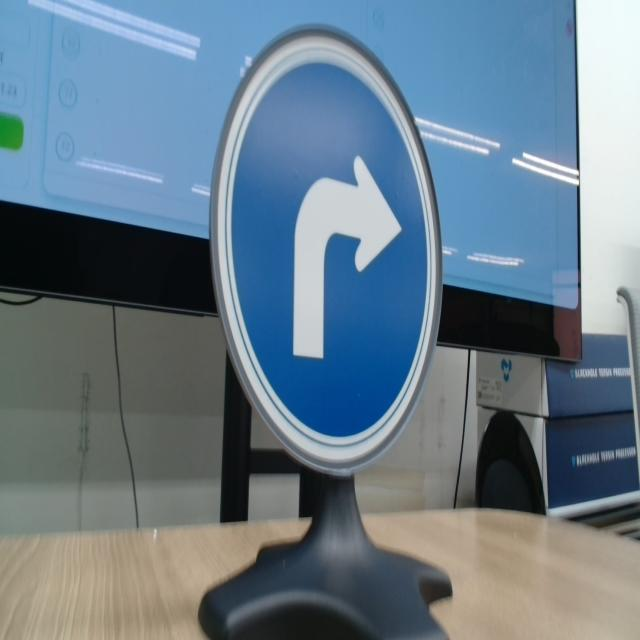right_dierection: (202, 19, 443, 482)
